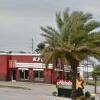Palm tree: (42, 2, 97, 88)
